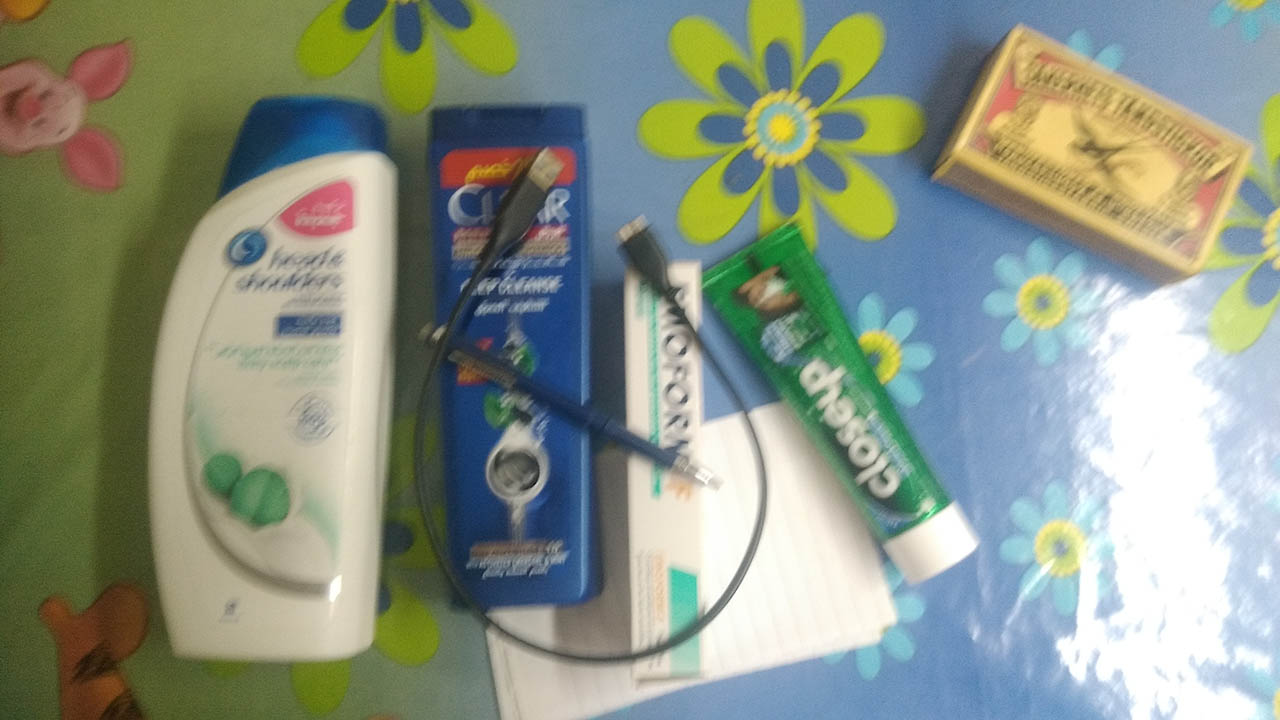Shampoo-Clear 4.7$: (417, 97, 612, 621)
Toothpaste-Closeup 3.04$: (700, 238, 1000, 594)
Toothpaste-F 1.5$: (623, 256, 706, 680)
match-sticks .90$: (951, 20, 1247, 284)
shampoo-green 4.5$: (119, 82, 398, 654)
